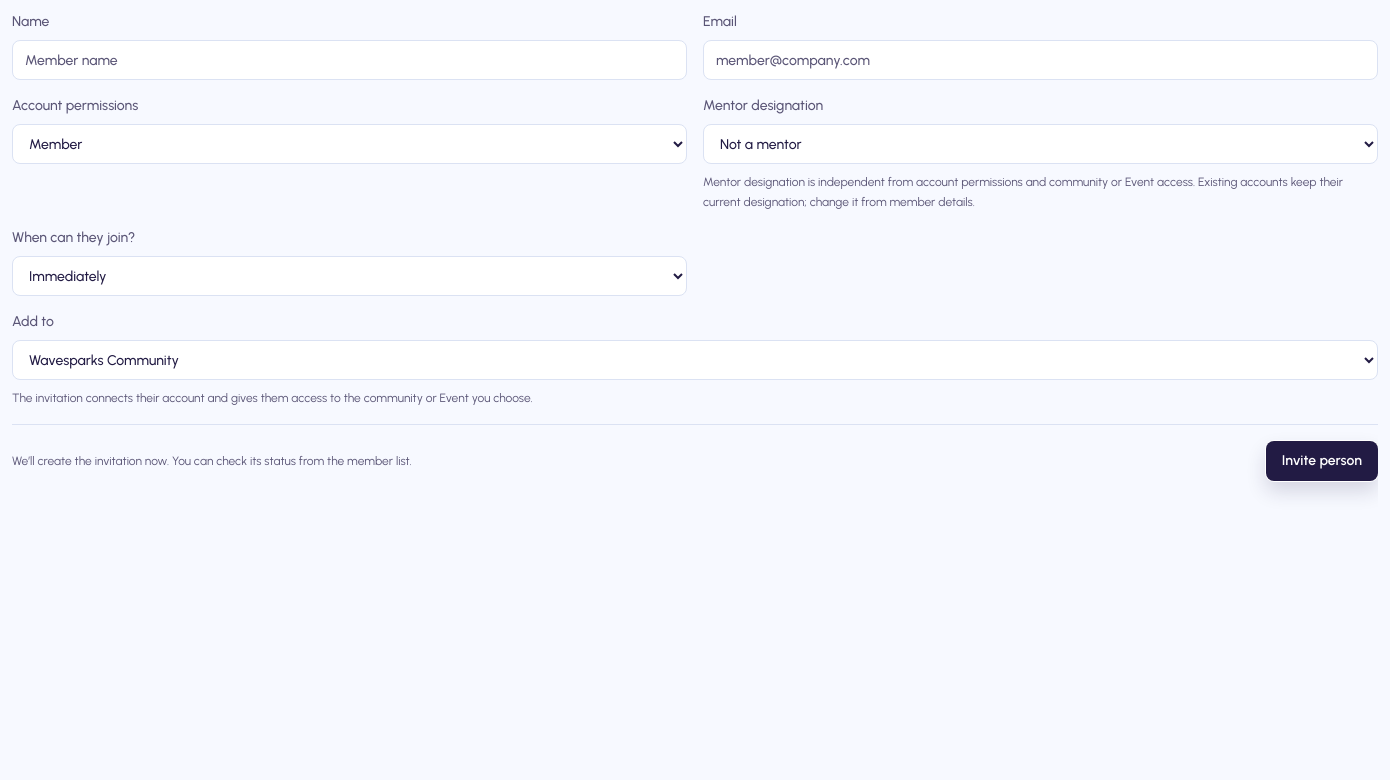
admin mentor management › keeps account permissions and mentor designation separate when inviting
Check: the dropdown labelled "Account permissions" shows "Member", box [12,124,687,164]
Step 1. Select "Approved mentor" in the dropdown labelled "Mentor designation" → (1040, 144), box [703,124,1378,164]
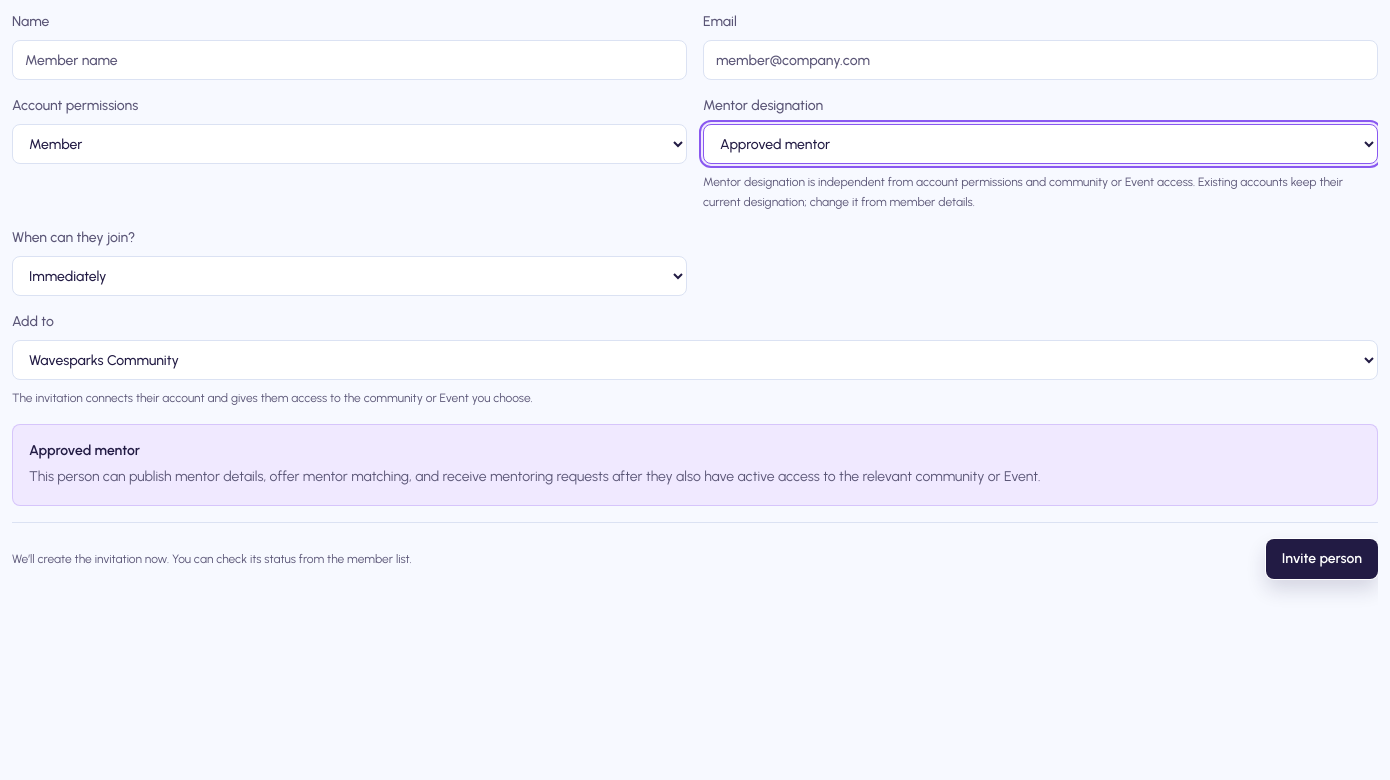
Check: the dropdown labelled "Account permissions" shows "Member", box [12,124,687,164]
Check: the text "can publish mentor details" is shown, box [29,468,1040,485]
